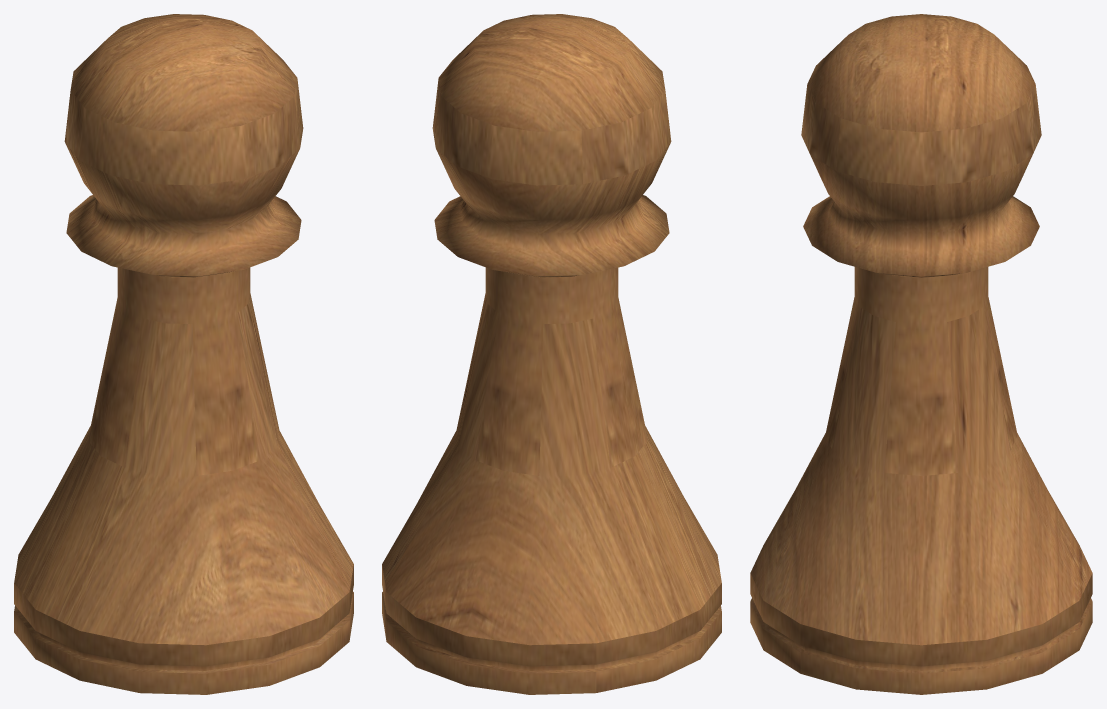
The model's file is pawn_b.gbl.glb.
3 renders of one model, left to right at view 1: azimuth 30°, elevation 25°; view 2: azimuth 150°, elevation 25°; view 3: azimuth 270°, elevation 25°, orthographic.
Parts seen in each view (by area): view 1: Cylinder.031; view 2: Cylinder.031; view 3: Cylinder.031.
Boxes of the visible parts, x1,y1,x2,y2 form: Cylinder.031: [14, 14, 353, 694]; Cylinder.031: [382, 14, 721, 694]; Cylinder.031: [750, 14, 1092, 694].
Bounding box in the file's own units: 5.35 × 10.21 × 5.35.
1 material, 1 textured.
